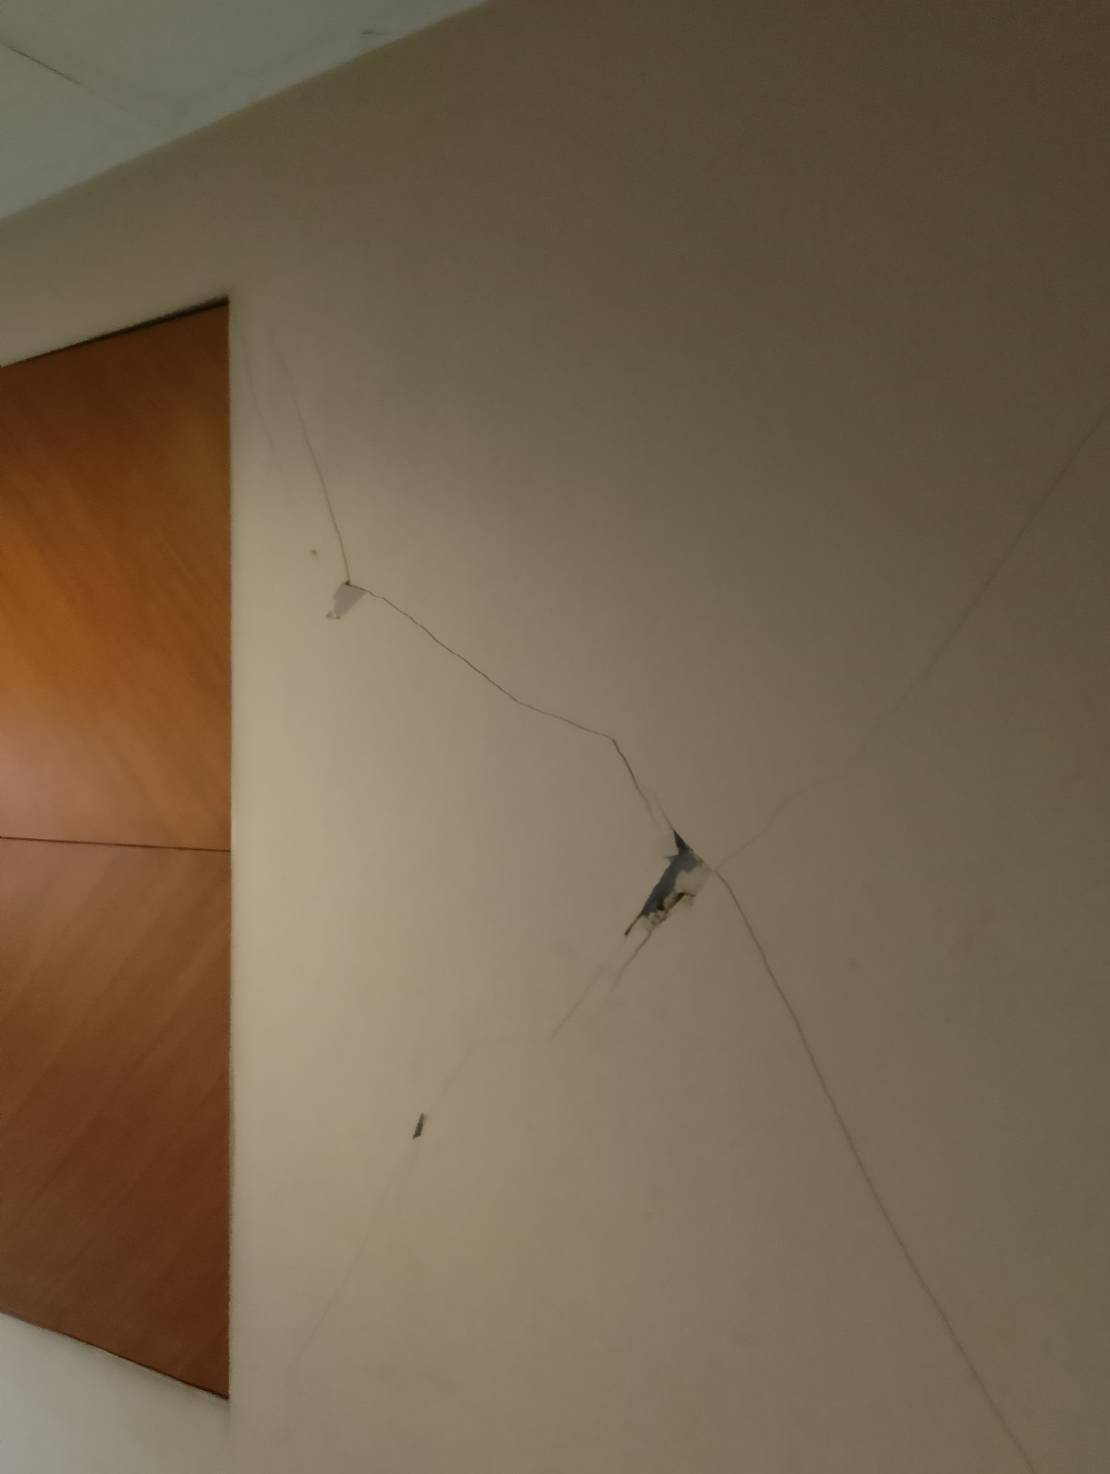Medium: (319, 543, 1045, 1415)
